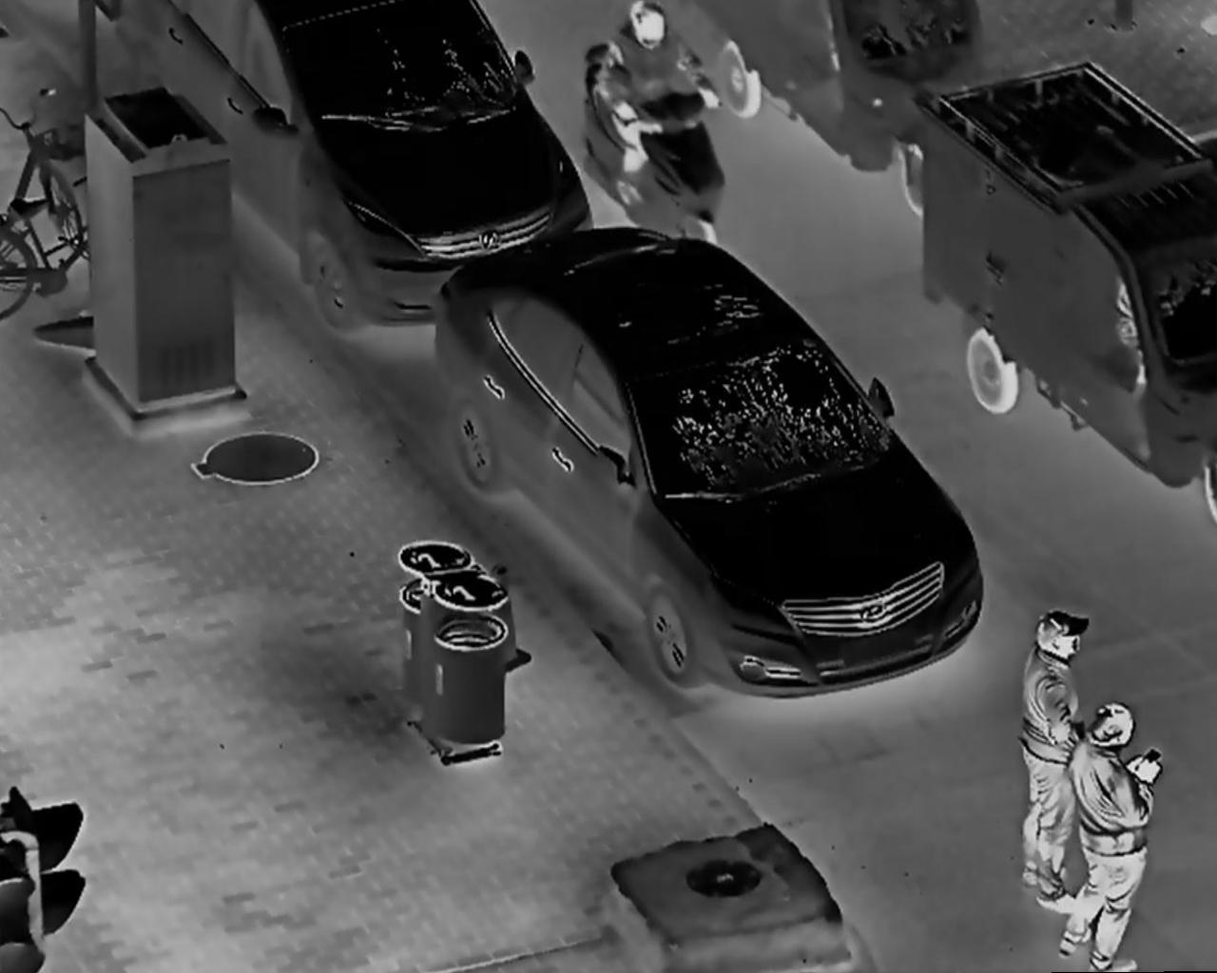person: (1055, 703, 1159, 973), (598, 6, 721, 209), (1018, 609, 1091, 916)
